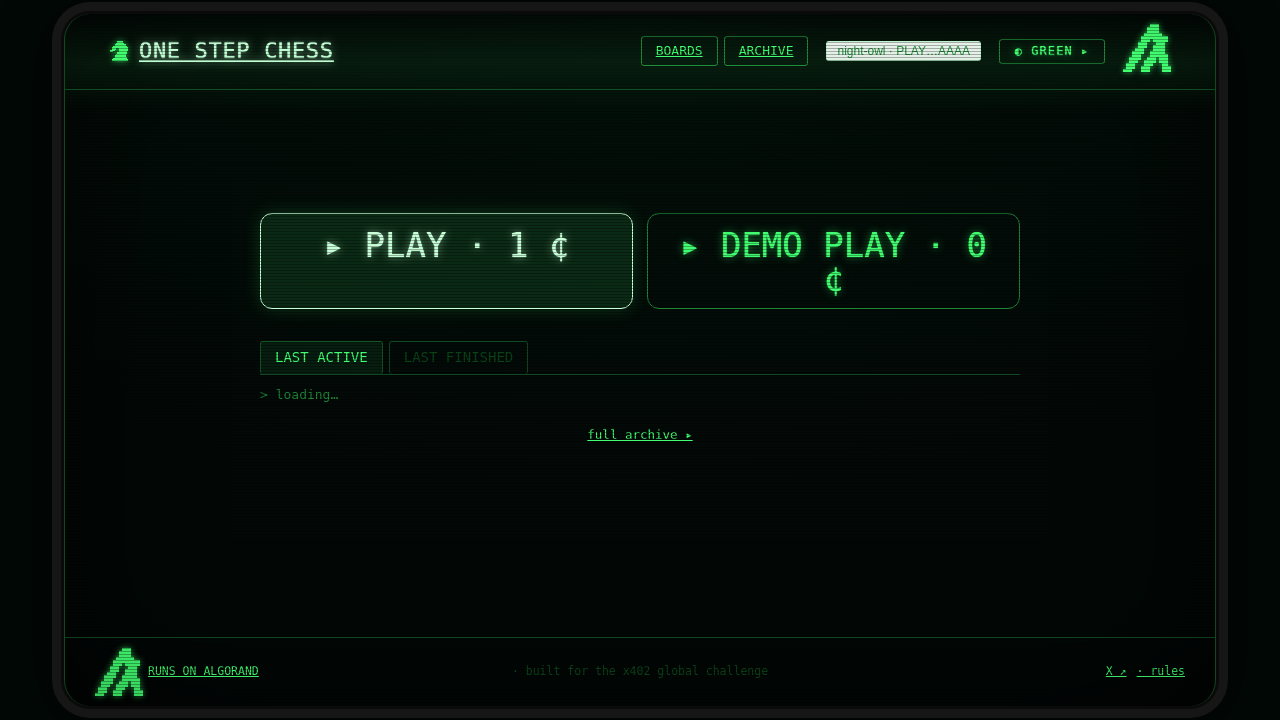
edge states (#31, F-W10 rows) › QUOTA_OUT renders next-at from Retry-After
This screenshot has width=1280, height=720.
Click the button "▸ PLAY · 1 ¢" at [446, 261], box [260,213,633,309]
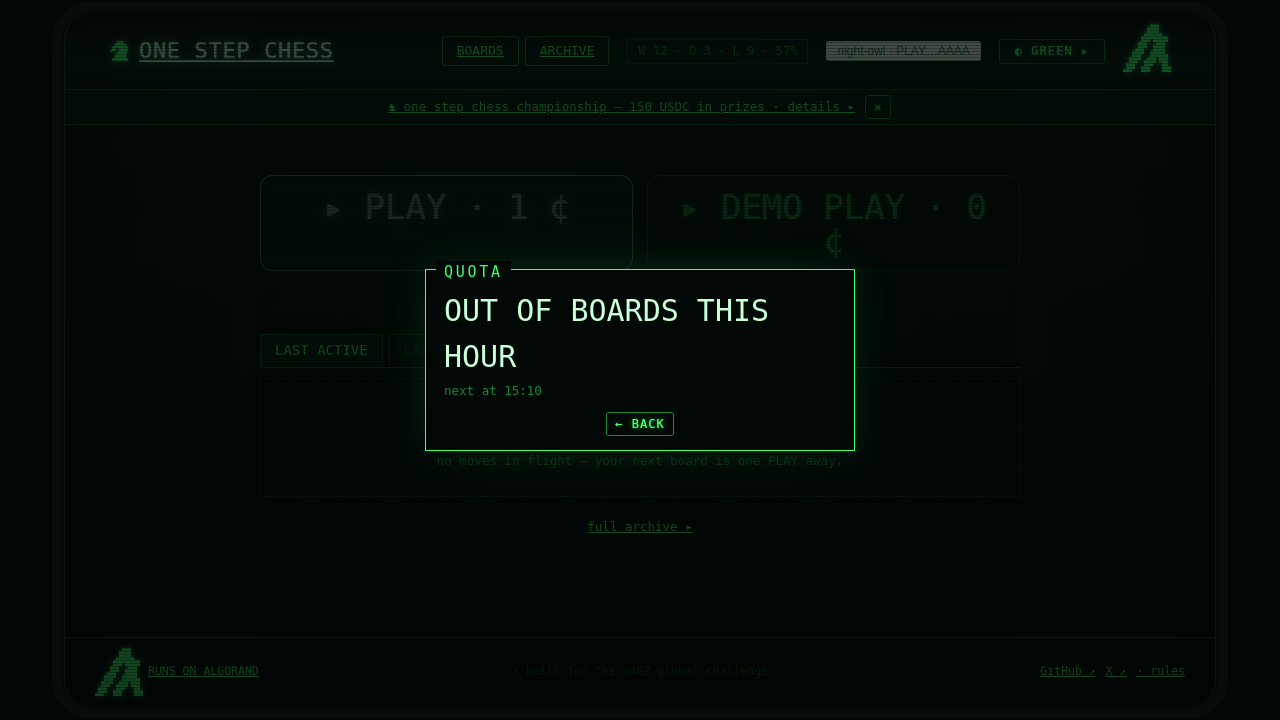
Now the text "OUT OF BOARDS THIS HOUR" is shown, box [444,292,769,374]
